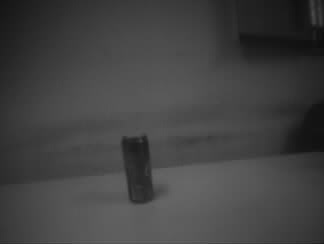Tin can: (119, 132, 156, 204)
